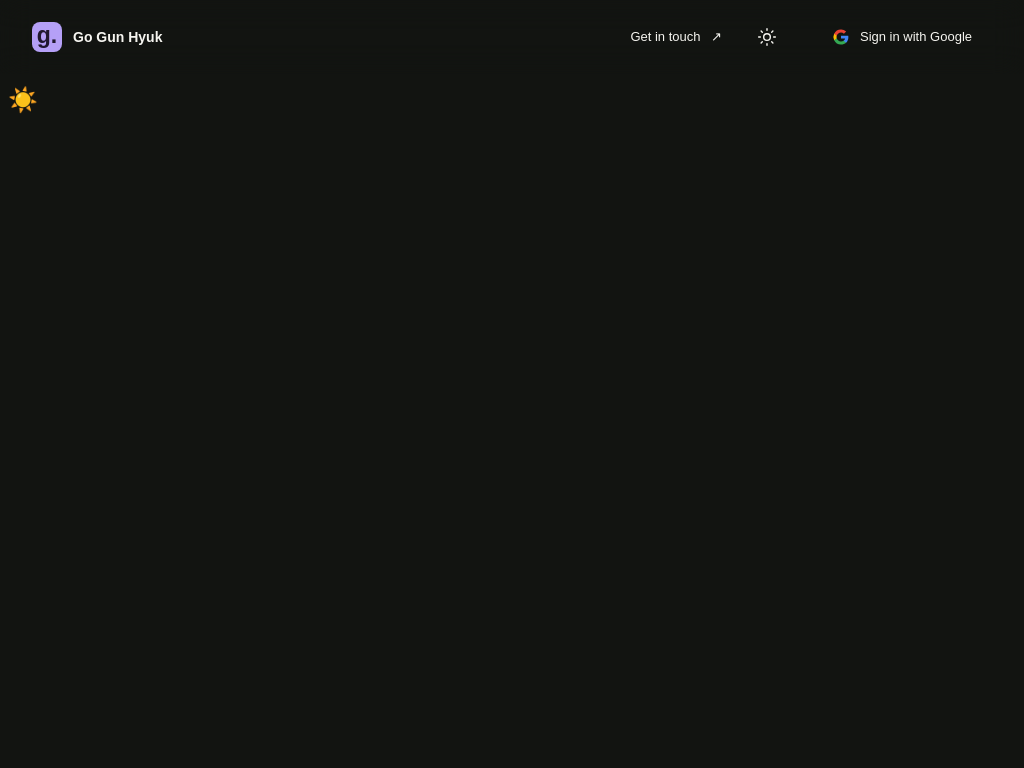
Test: connects the existing page theme controls to the new app bar
This screenshot has width=1024, height=768.
Click the button named "Switch to light mode".
click(23, 100)  # box [0, 74, 46, 126]
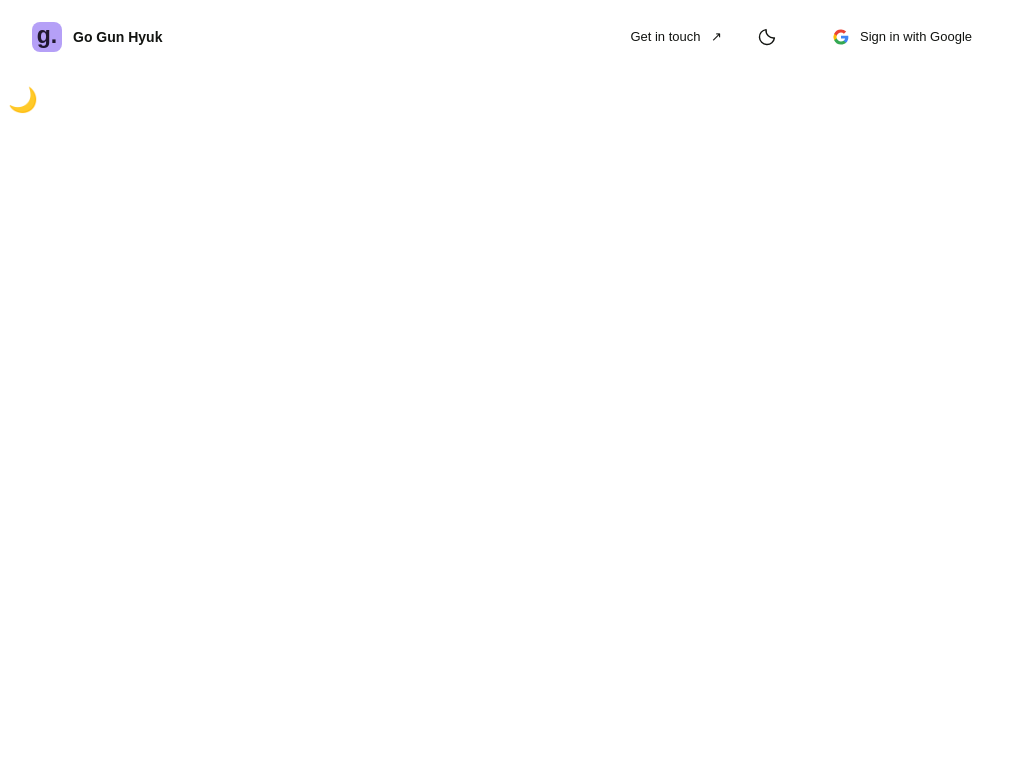
Click the button named "Switch to dark mode".
click(767, 37)  # box [746, 16, 788, 58]
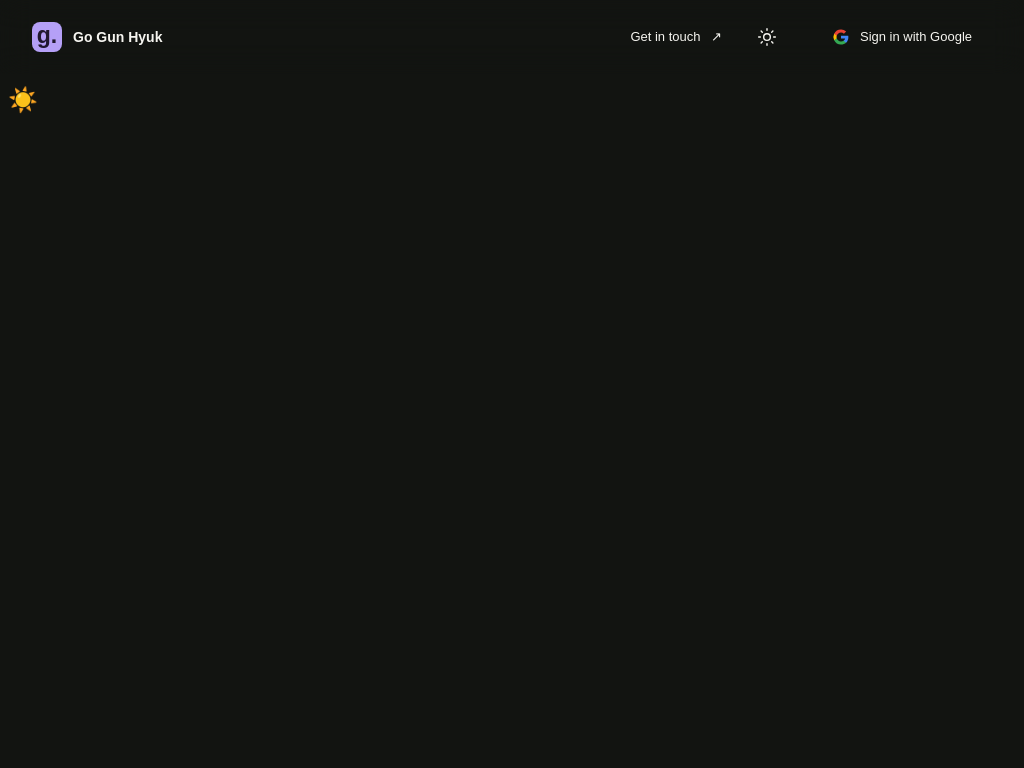
Check: the button named "Switch to light mode" is shown, box [0, 74, 46, 126]
